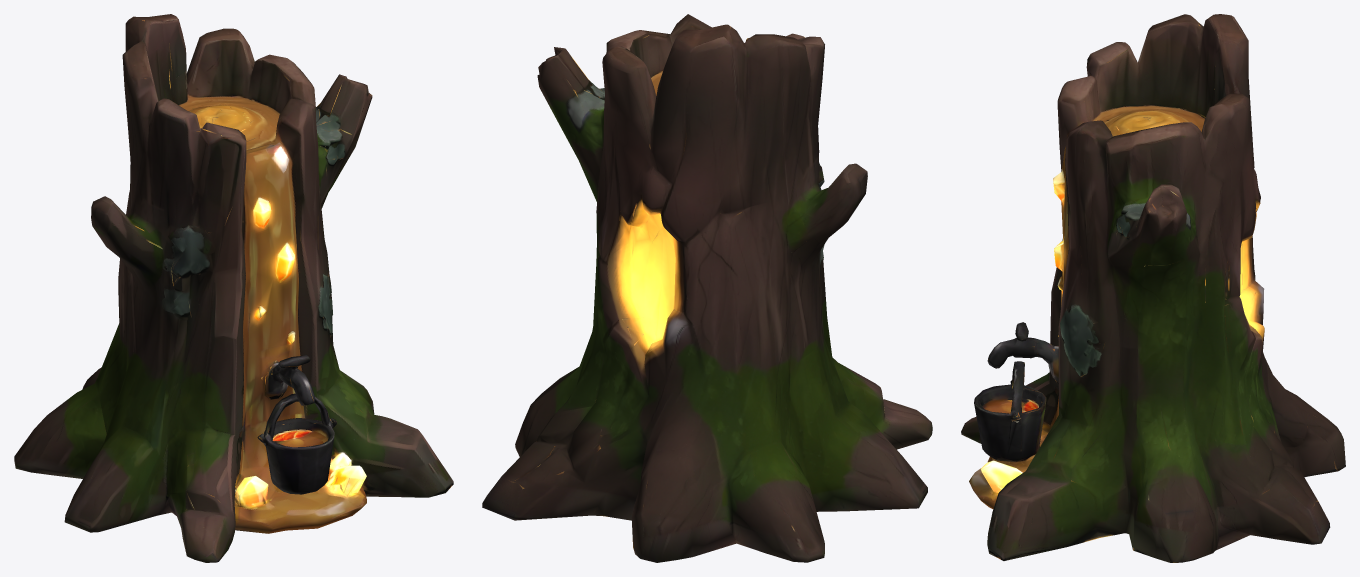
Rendered from mesh_amber_sap_node_a.glb.
The picture shows the model from 3 angles, left to right: view 1: azimuth 30°, elevation 25°; view 2: azimuth 150°, elevation 25°; view 3: azimuth 270°, elevation 25°; orthographic projection. The views are drawn at different scales.
Visible parts, largest first — view 1: mesh_amber_sap_node_a__Mesh_0; view 2: mesh_amber_sap_node_a__Mesh_0; view 3: mesh_amber_sap_node_a__Mesh_0.
Boxes of the visible parts, x1=… form: mesh_amber_sap_node_a__Mesh_0: x1=14, y1=14, x2=453, y2=562; mesh_amber_sap_node_a__Mesh_0: x1=482, y1=14, x2=932, y2=562; mesh_amber_sap_node_a__Mesh_0: x1=961, y1=14, x2=1345, y2=562.
Size of the model in its own units: 4.8 by 6 by 4.7.
1 material, 1 textured.
